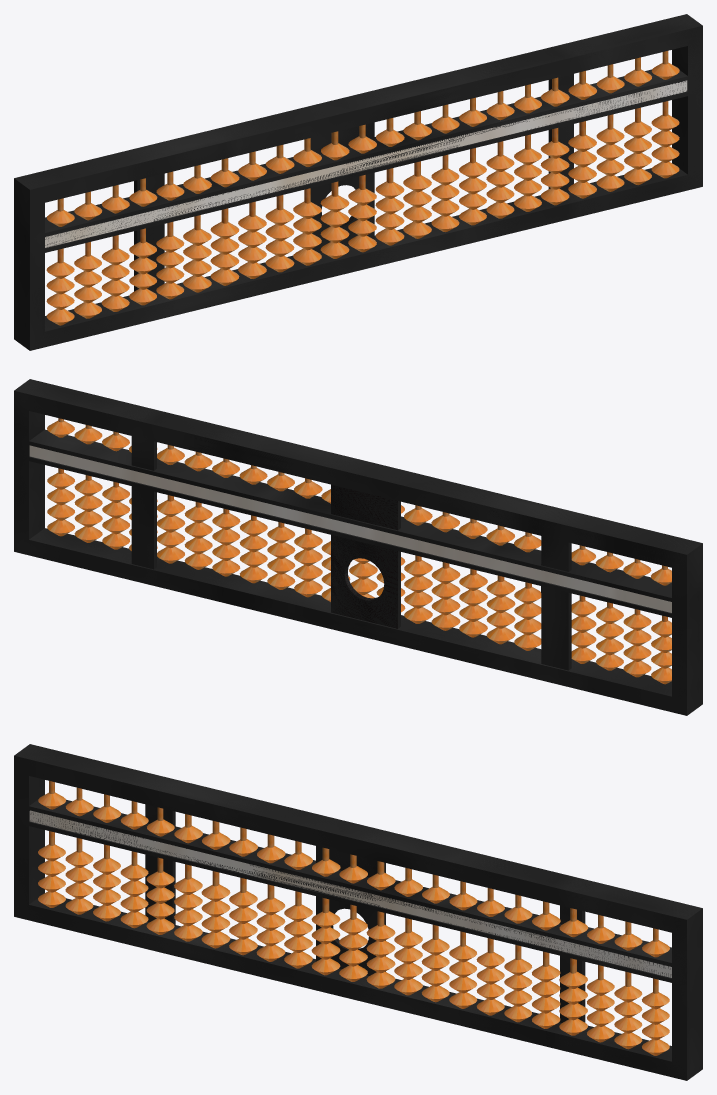
3 renders of one model, top to bottom at view 1: azimuth 30°, elevation 25°; view 2: azimuth 150°, elevation 25°; view 3: azimuth 330°, elevation 25°, orthographic.
Visible parts, largest first — view 1: Composant_1 (×4); view 2: Composant_1 (×5); view 3: Composant_1 (×4).
Part boxes in pixels (left/top/right/bottom): Composant_1 (×4): left=14, top=14, right=702, bottom=350; Composant_1 (×5): left=14, top=379, right=702, bottom=715; Composant_1 (×4): left=14, top=744, right=702, bottom=1080.
Bounding box in the file's own units: 8.87 × 0.4535 × 2.03.
5 materials, 5 textured.
